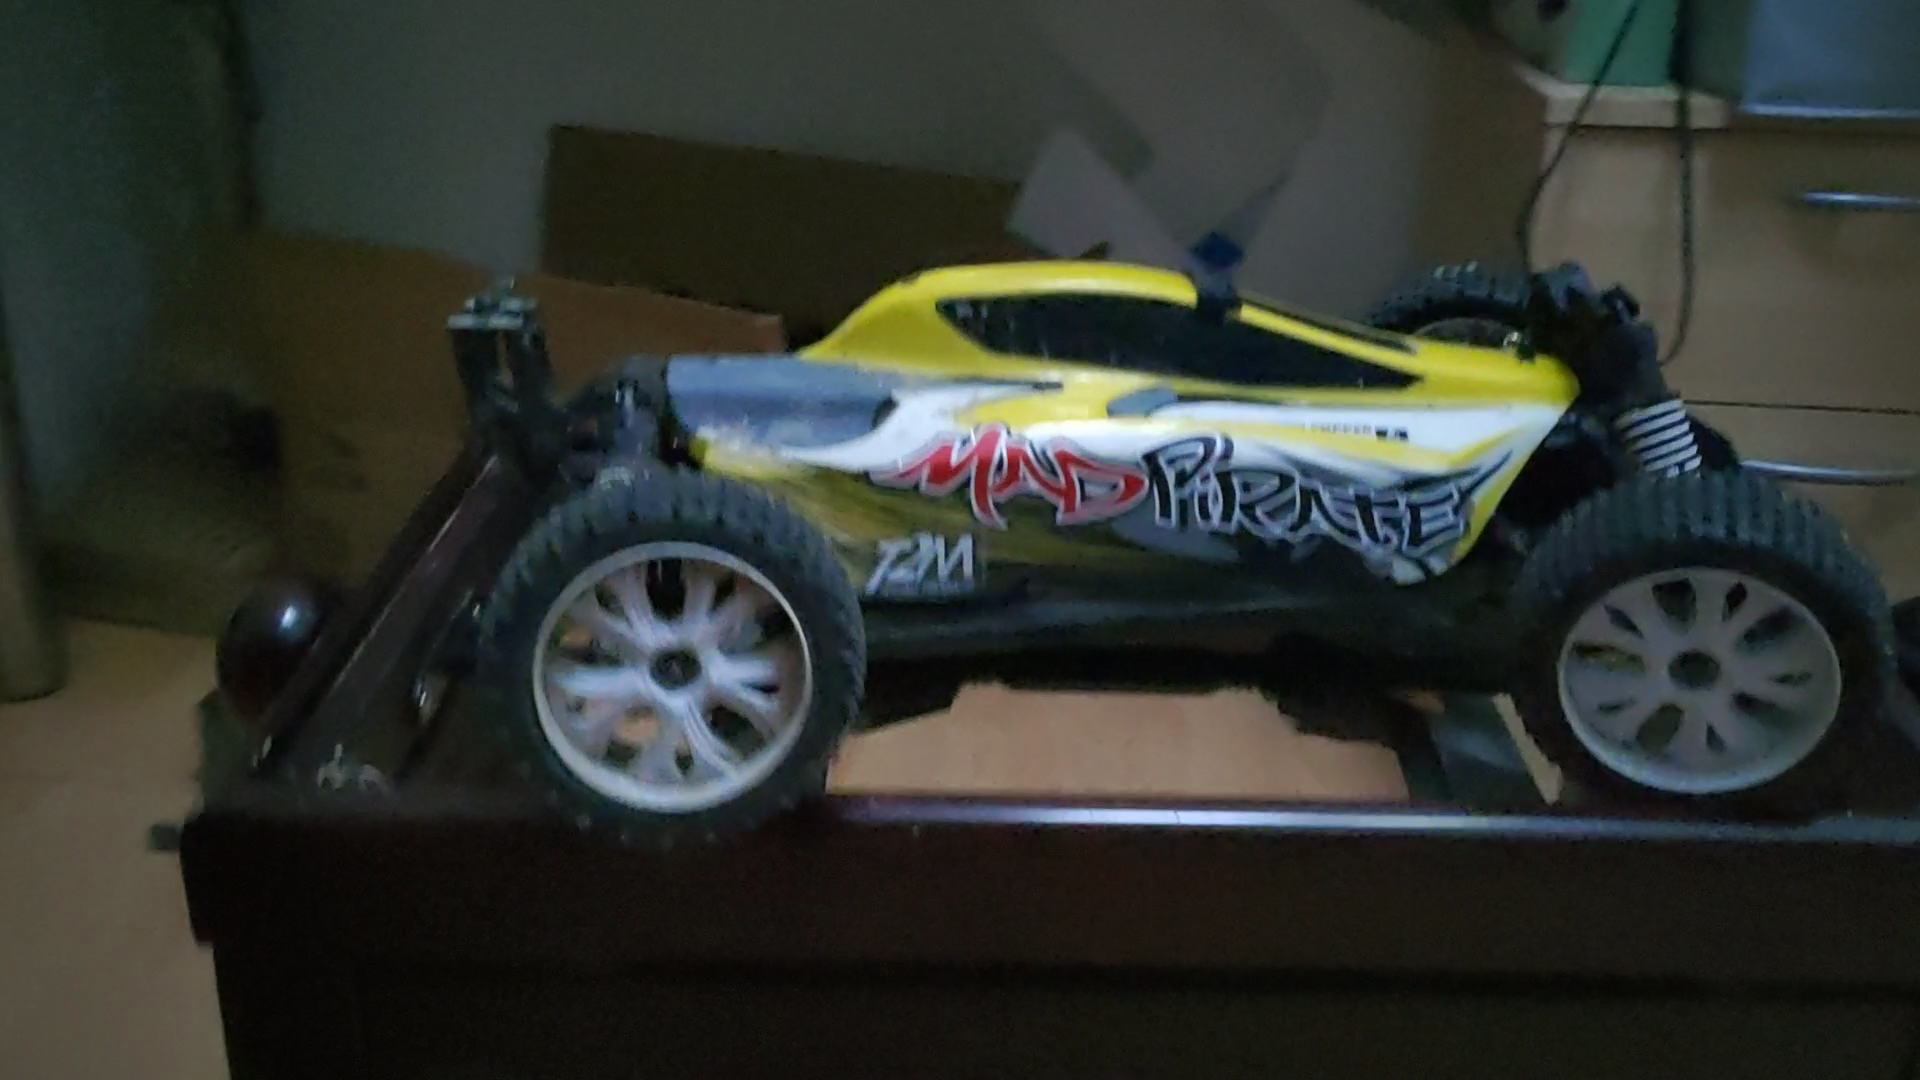buggy: (472, 243, 1909, 837)
